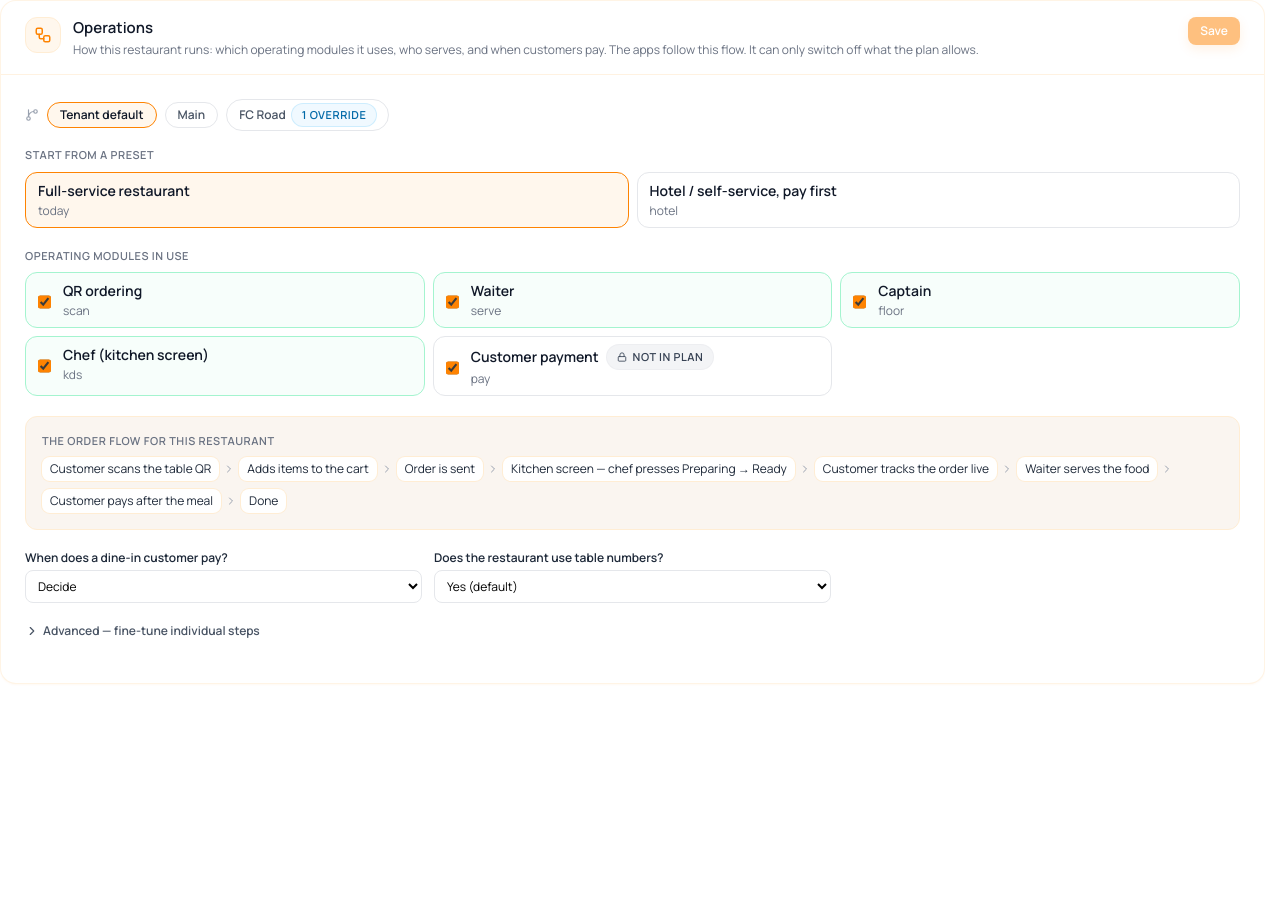
Test case: OperationsPanel › per-branch overrides (design §12.1) › selecting a branch shows its resolved profile with "Overridden" tags and previews with branchId
expect the element with test id "ops-modules" is shown: met, box [25,272,1240,396]
expect the element with test id "ops-scope" is shown: met, box [25,98,389,131]
Click the button "FC Road 1 override": point(308, 115) [226,98,389,131]
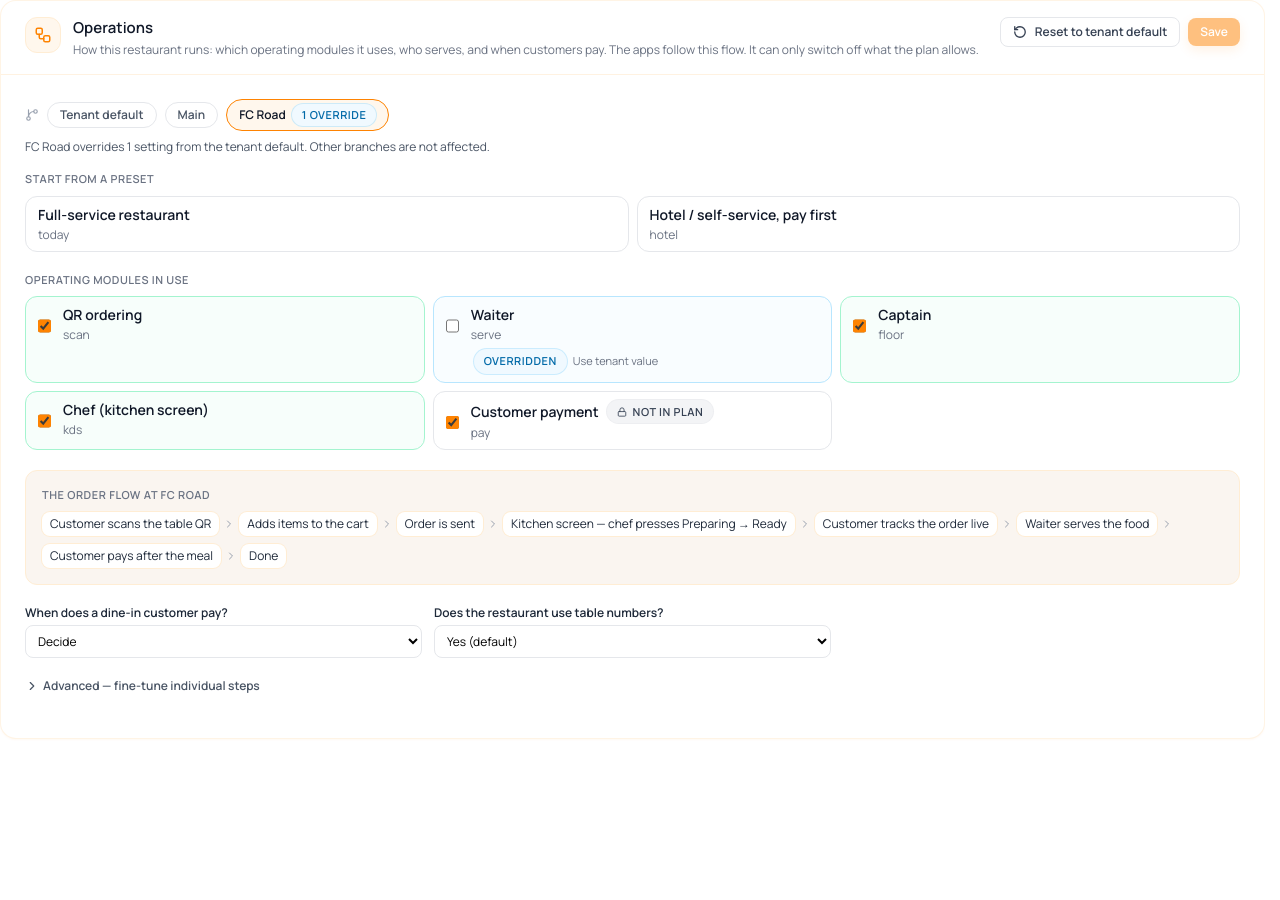
expect the text with test id "ops-branch-note" shows "FC Road overrides 1 setting from the tenant default": met, box [25,138,490,155]
expect the checkbox labelled "Waiter" is not checked: met, box [446,309,459,343]
expect the element with test id "ops-override-modules.waiter" shows "Overridden": met, box [484,353,557,368]
Click the button "Main": point(191, 115) [164,102,218,128]
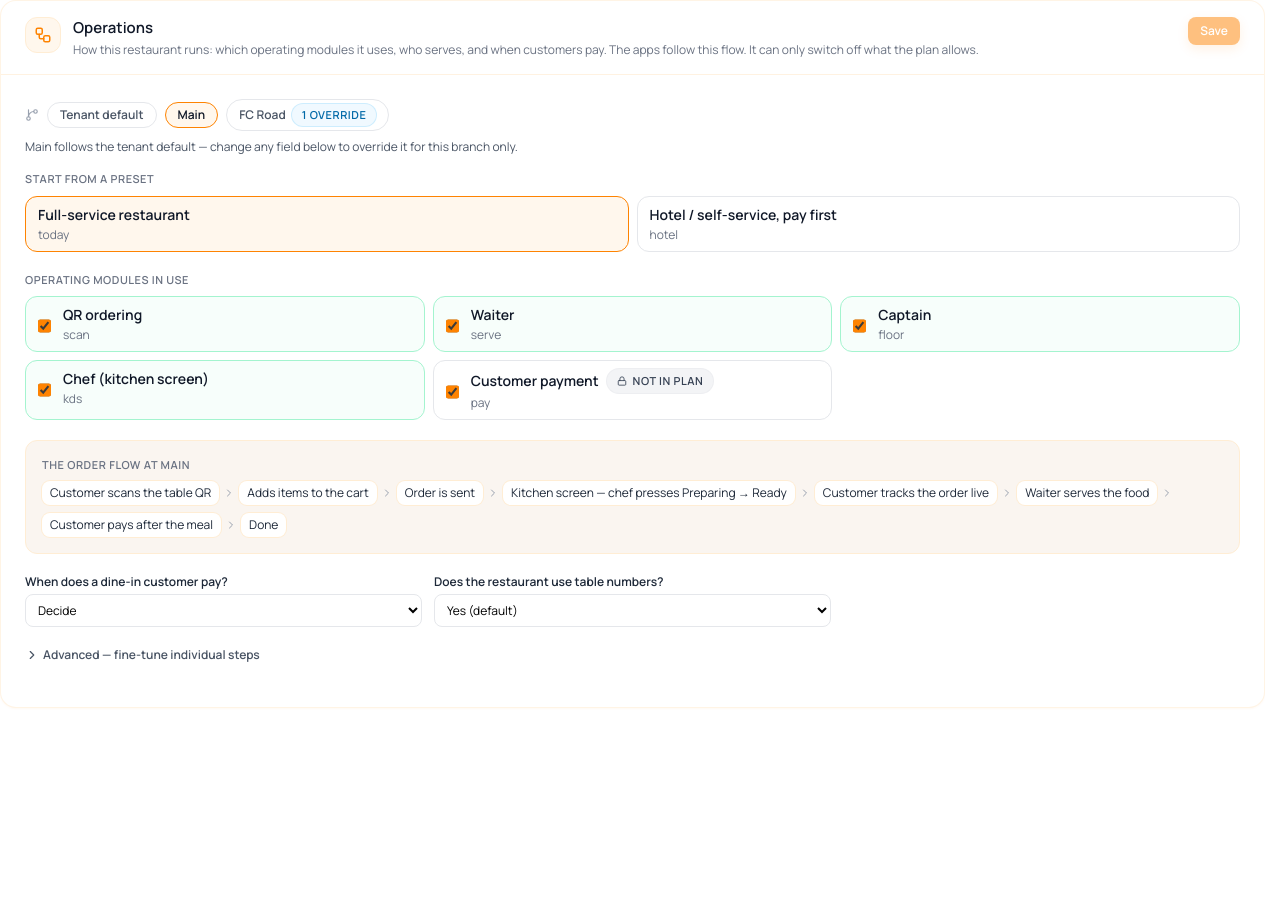
expect the text with test id "ops-branch-note" shows "Main follows the tenant default": met, box [25,138,518,155]
expect the checkbox labelled "Waiter" is checked: met, box [446,309,459,343]
expect the button "Reset to tenant default" is gone: met
